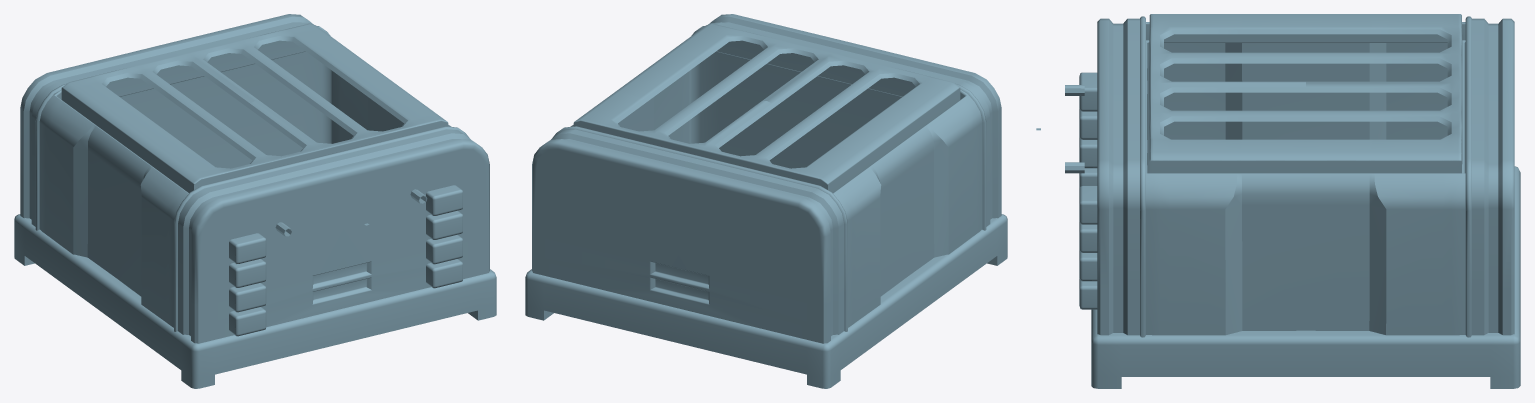
Rendered from Toaster_24_4.obj.
3 views of the same model, side by side, from view 1: azimuth 30°, elevation 25°; view 2: azimuth 150°, elevation 25°; view 3: azimuth 270°, elevation 25° (orthographic). The views are drawn at different scales.
Size of the model in its own units: 0.3067 by 0.1778 by 0.3578.
